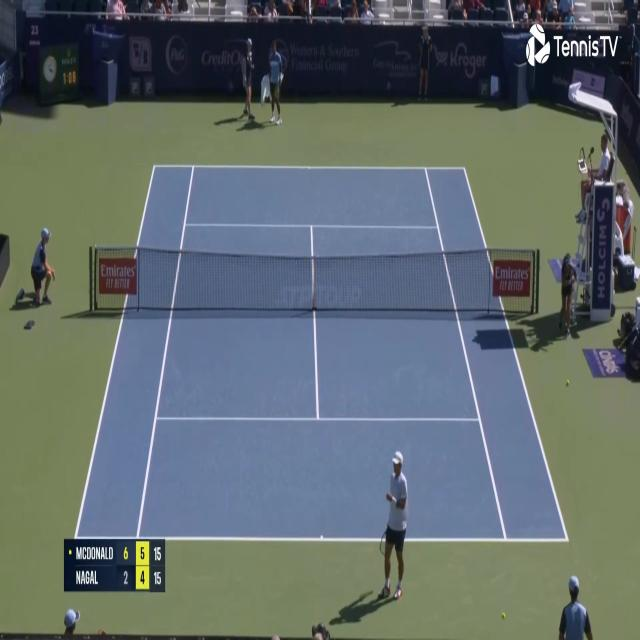tennis-player: (375, 448, 410, 606), (258, 36, 286, 128)
